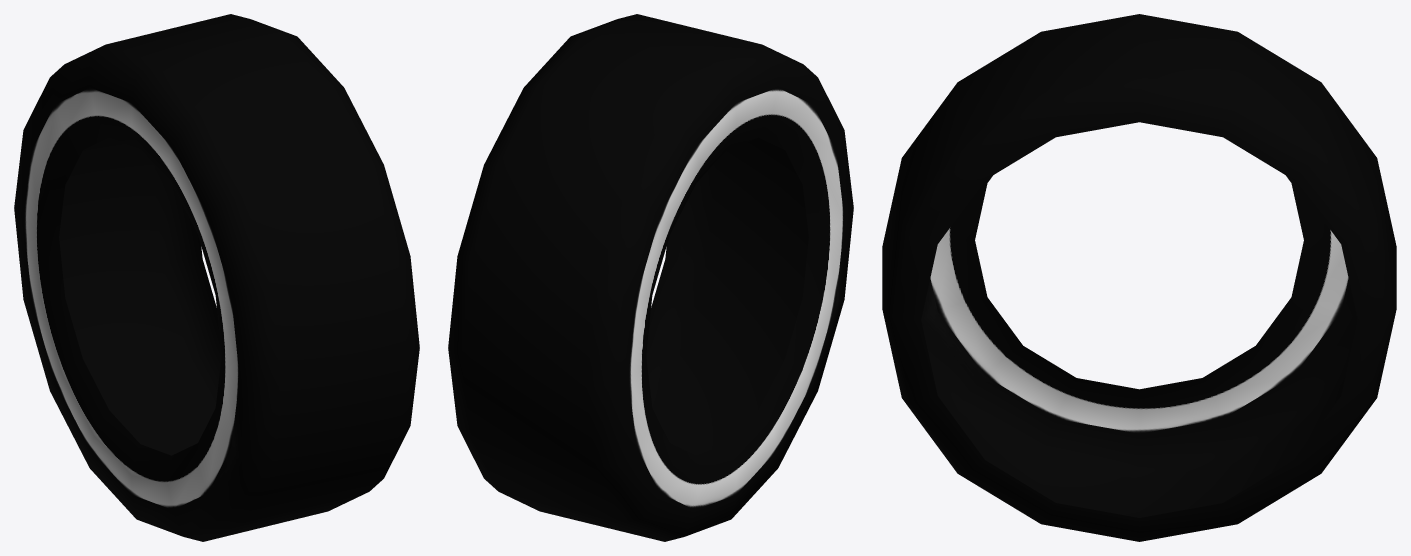
The model's file is Tyre01.fbx.
3 views of the same model, side by side, from view 1: azimuth 30°, elevation 25°; view 2: azimuth 150°, elevation 25°; view 3: azimuth 270°, elevation 25° (orthographic).
Parts seen in each view (by area): view 1: tire; view 2: tire; view 3: tire.
Part boxes in pixels (box(x1,y1,x2,y2)): tire: box(14, 14, 419, 541); tire: box(448, 14, 853, 541); tire: box(882, 14, 1396, 541).
Size of the model in its own units: 6.47 by 16.7 by 16.7.
